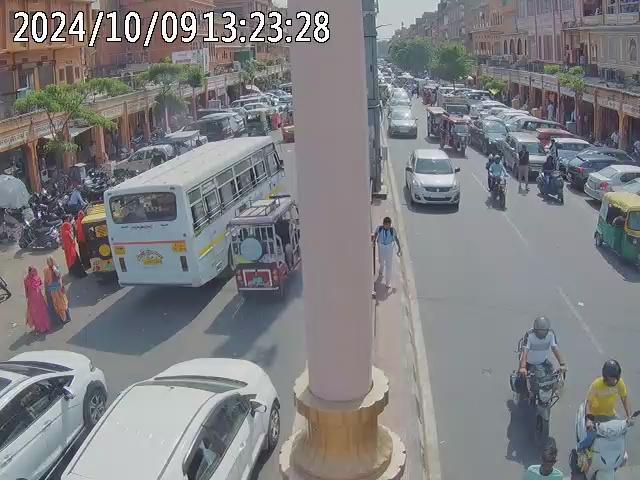auto: (226, 193, 301, 303), (592, 190, 639, 277), (440, 115, 471, 154)
bus: (101, 133, 288, 310)
car: (50, 356, 282, 479), (1, 347, 109, 479), (402, 146, 462, 208), (387, 108, 418, 137)
helmet: (600, 358, 621, 385), (530, 318, 551, 336)
motorbike-rider: (508, 315, 569, 470), (484, 155, 507, 209)
person: (20, 259, 70, 336), (374, 220, 402, 284), (515, 150, 532, 192)
scooty-rider: (573, 360, 635, 479), (17, 194, 62, 250), (535, 154, 570, 212)
